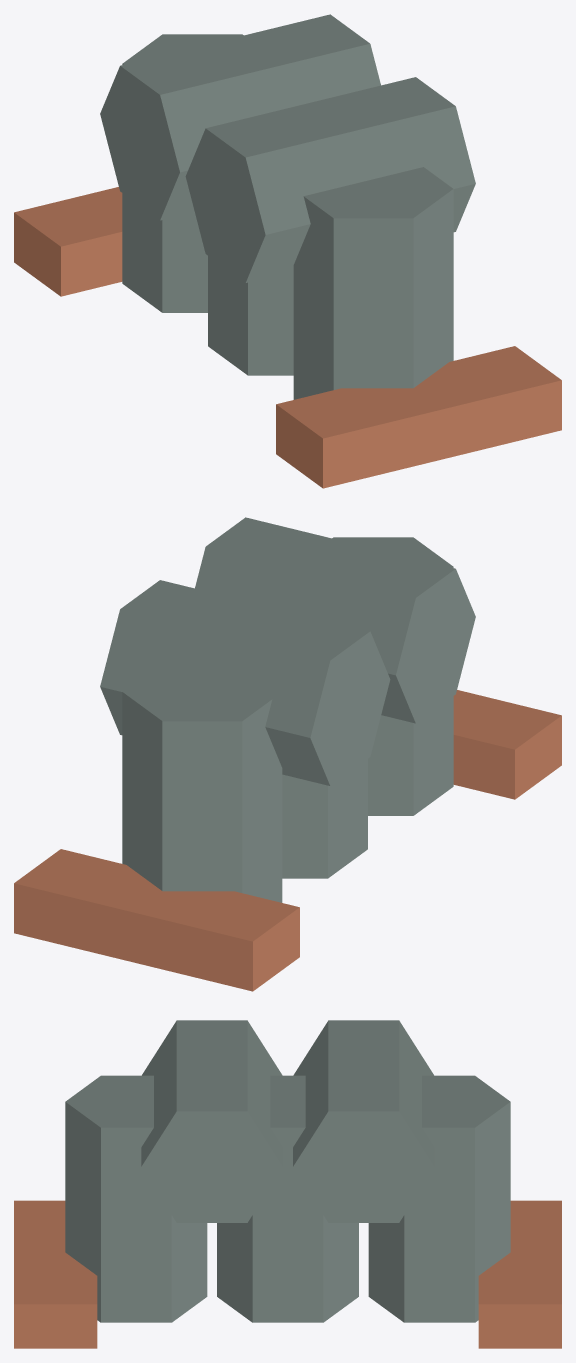
File: SM_Bidones_v2_Tumbados_LOD1.fbx
3 renders of one model, top to bottom at view 1: azimuth 30°, elevation 25°; view 2: azimuth 150°, elevation 25°; view 3: azimuth 270°, elevation 25°, orthographic. The views are drawn at different scales.
Visible parts, largest first — view 1: SM_sagunto_vivo_v2_LOD1; view 2: SM_sagunto_vivo_v2_LOD1; view 3: SM_sagunto_vivo_v2_LOD1.
Part boxes in pixels (left/top/right/bottom): SM_sagunto_vivo_v2_LOD1: left=14, top=14, right=561, bottom=488; SM_sagunto_vivo_v2_LOD1: left=14, top=517, right=561, bottom=991; SM_sagunto_vivo_v2_LOD1: left=14, top=1020, right=561, bottom=1348.
Bounding box in the file's own units: 1 × 1.04 × 2.24.
